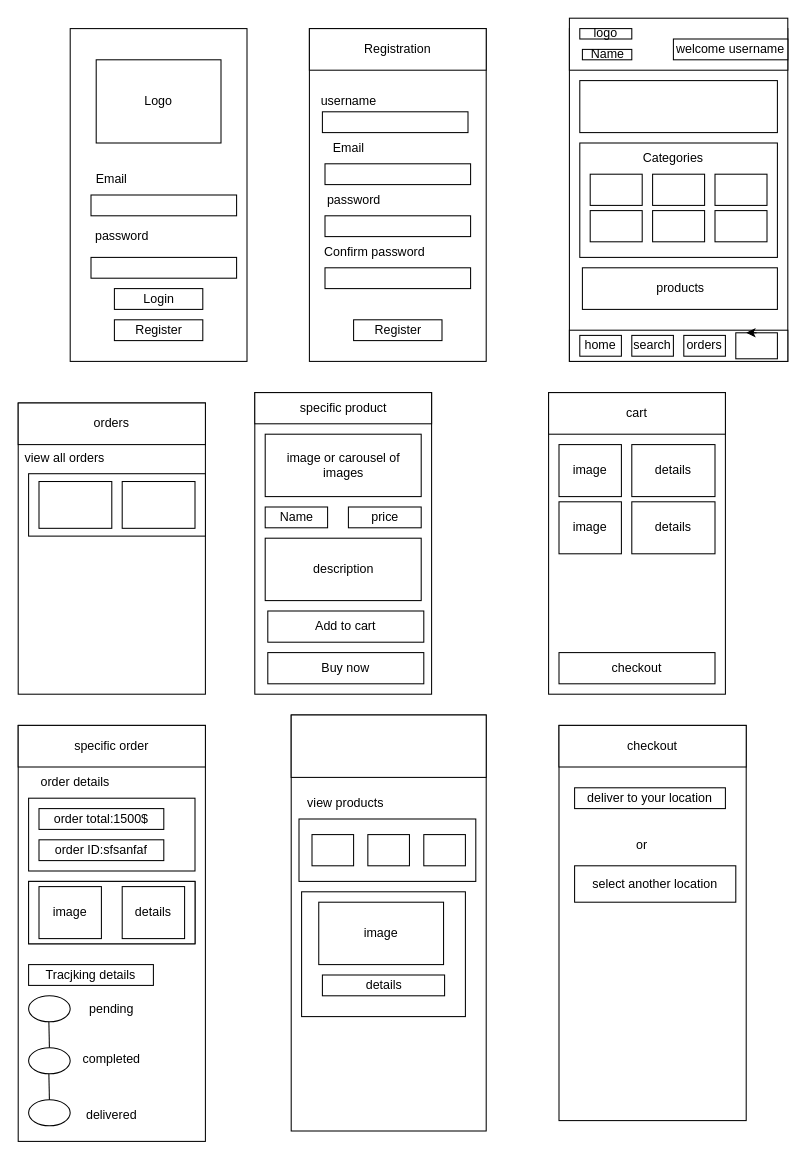
Image size: 806x1160. Some labels were removed from this diagram. Each missing label, with the centre of its shape:
"account" belongs at (756,345).
"images for discounts" belongs at (678,106).
"speciific cateogry" belongs at (388,745).
